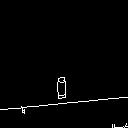cube: (44, 74, 74, 101)
